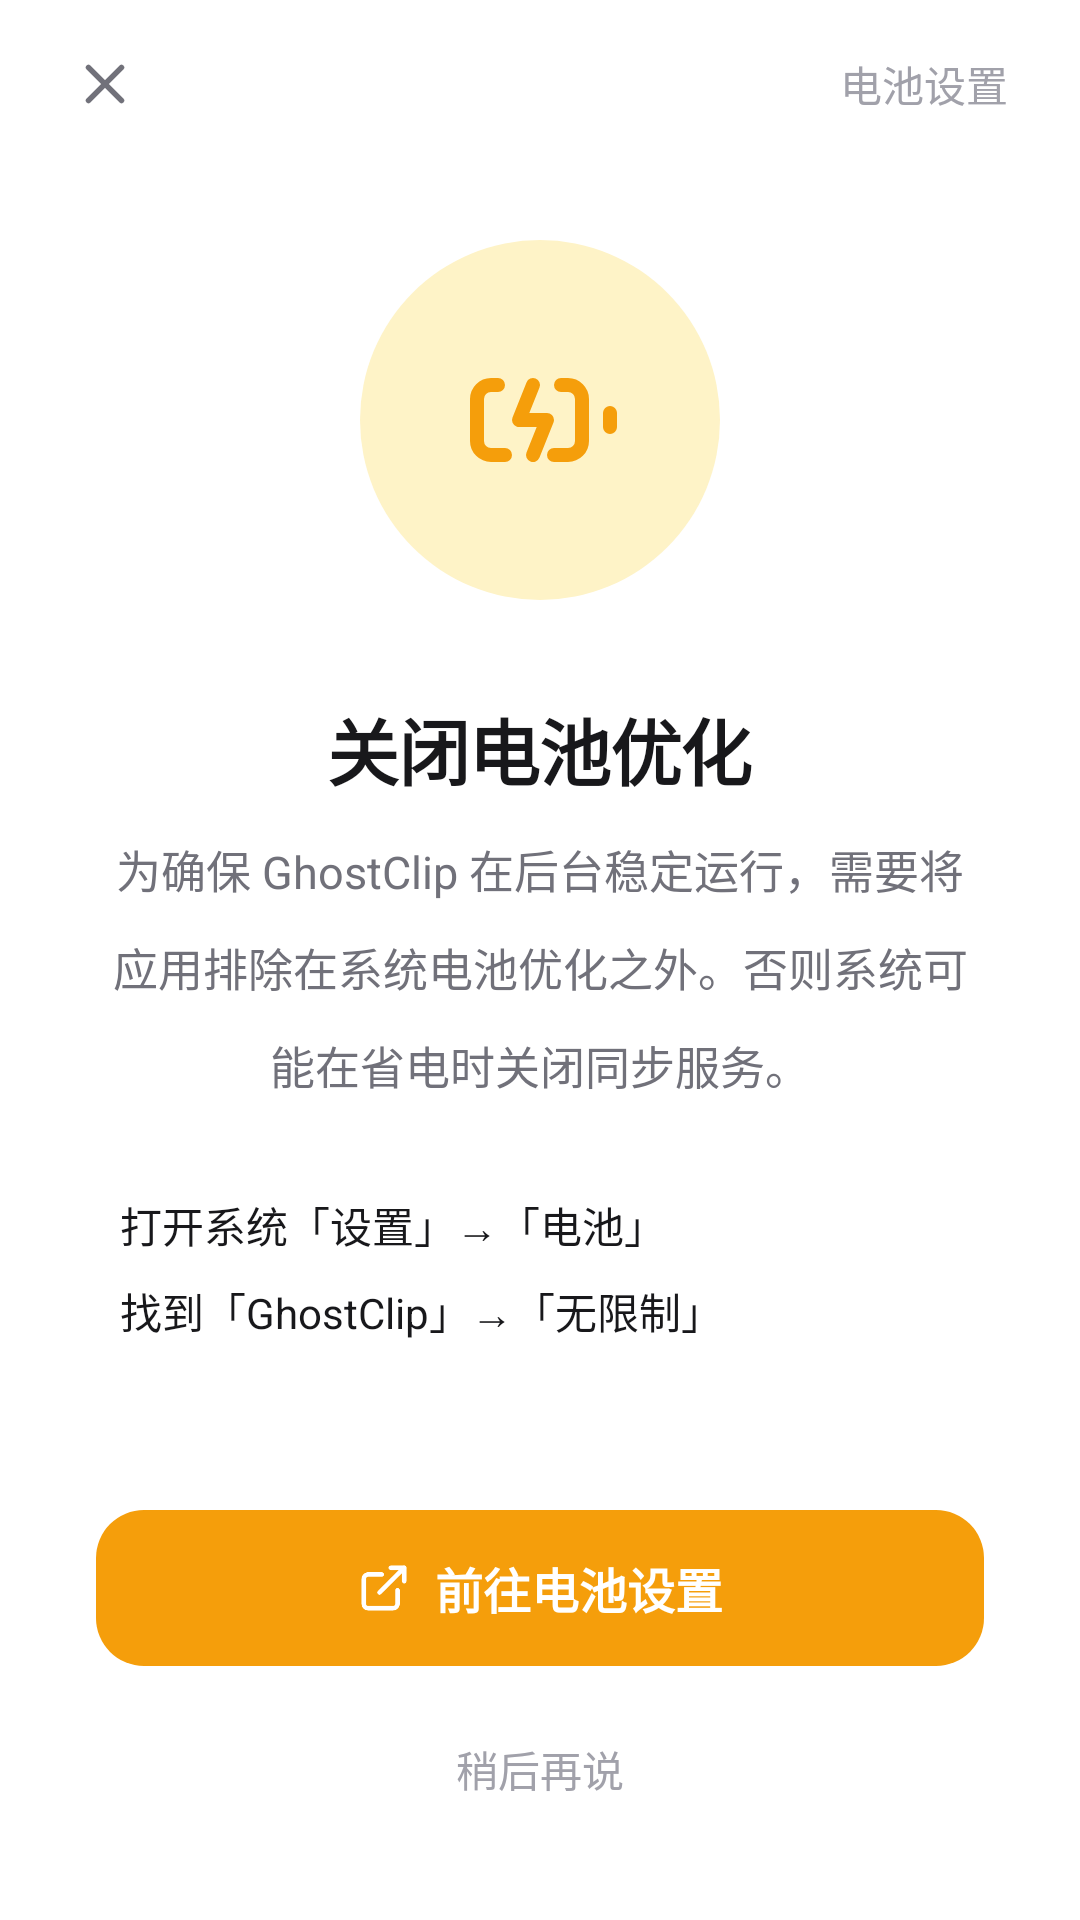

Icon bounding boxes for this 1080 x 1920 phone screenshot, format bbox(x1, y1, x2, y2):
battery charging: bbox(470, 378, 617, 462)
external link: bbox(361, 1565, 407, 1611)
